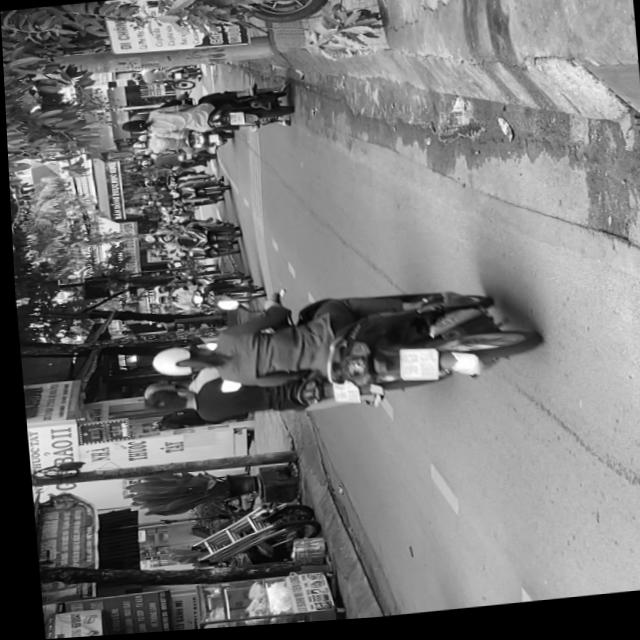helmet: (144, 345, 209, 382)
licenseplate: (126, 280, 537, 435), (112, 86, 292, 148)
motorcyclist: (136, 387, 189, 417), (116, 120, 145, 136)
nohelmet: (393, 353, 434, 388), (326, 385, 354, 410), (226, 115, 241, 128)
